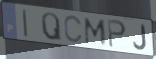C: (63, 14, 84, 44)
I: (21, 8, 29, 40)
J: (132, 23, 148, 51)
M: (84, 16, 107, 47)
P: (106, 18, 128, 50)
Q: (40, 12, 64, 43)
